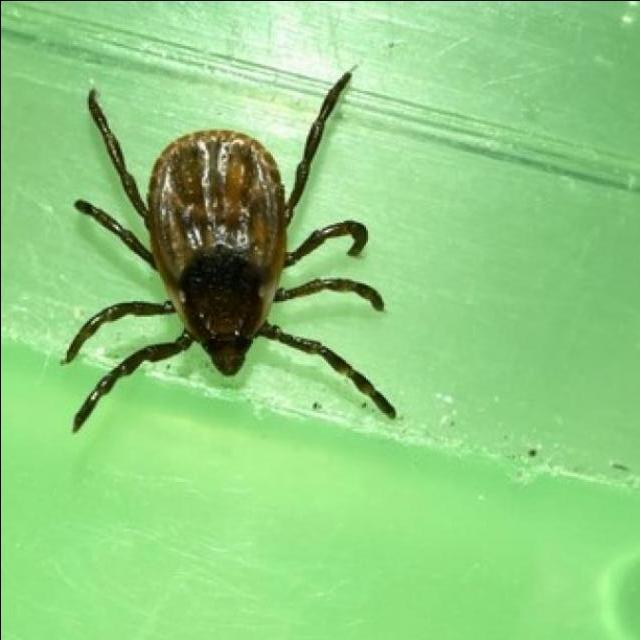Rhipicephalus Sanguineus-F: (60, 72, 395, 432)
